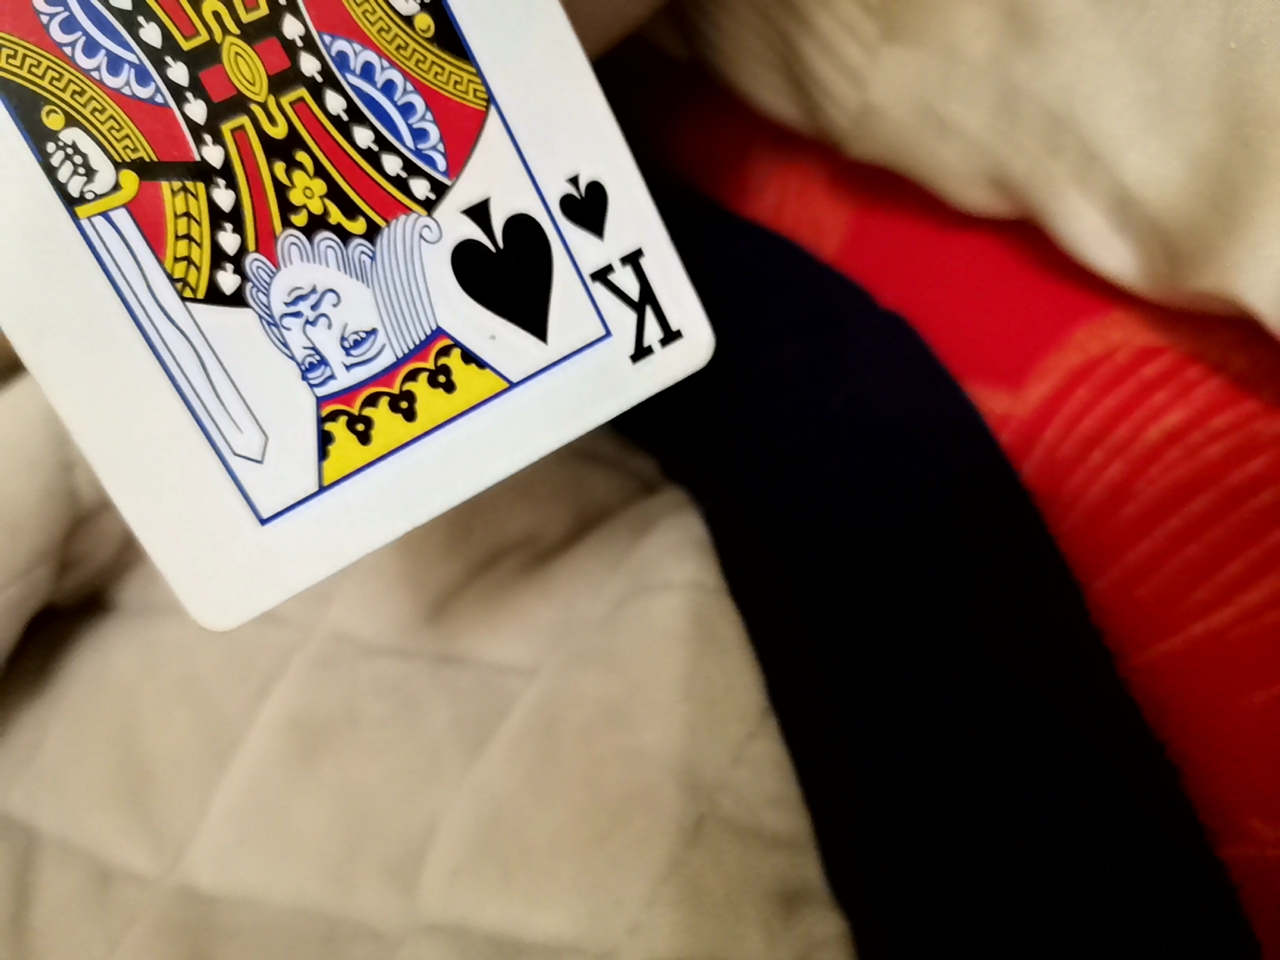ht k: (3, 3, 744, 650)
